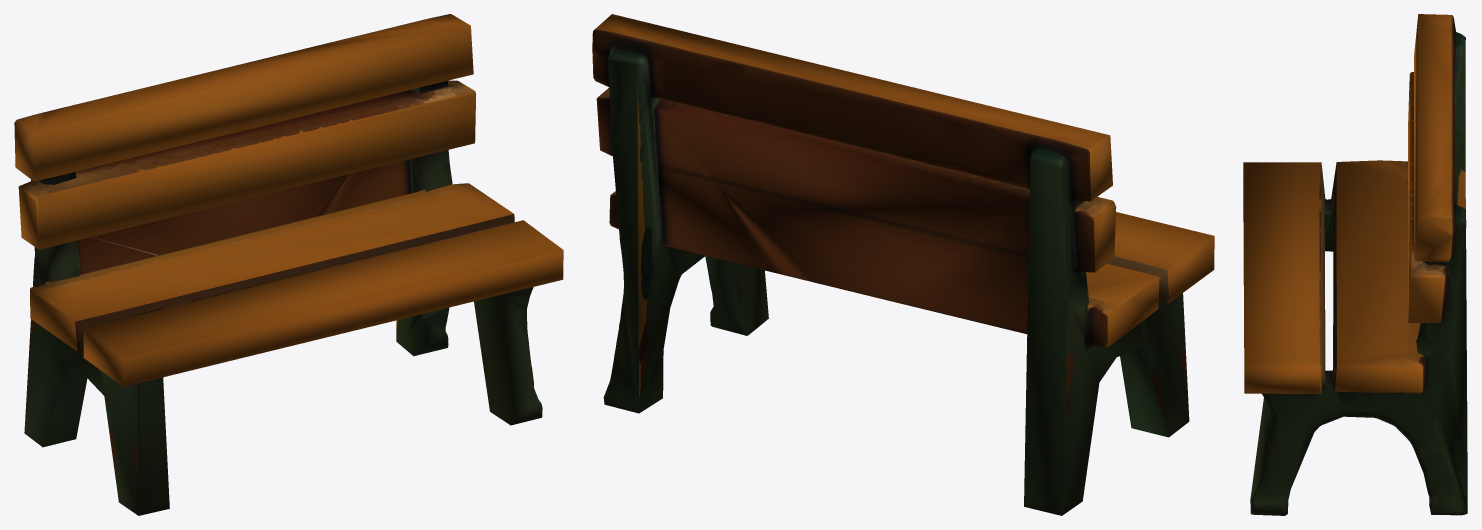
File: lavka.fbx
The picture shows the model from 3 angles, left to right: view 1: azimuth 30°, elevation 25°; view 2: azimuth 150°, elevation 25°; view 3: azimuth 270°, elevation 25°; orthographic projection. The views are drawn at different scales.
Parts seen in each view (by area): view 1: tmpp271h0p9.ply; view 2: tmpp271h0p9.ply; view 3: tmpp271h0p9.ply.
Boxes of the visible parts, x1,y1,x2,y2 form: tmpp271h0p9.ply: (14, 14, 563, 515); tmpp271h0p9.ply: (592, 14, 1214, 515); tmpp271h0p9.ply: (1243, 14, 1467, 515).
Bounding box in the file's own units: 198 × 139 × 91.74.
1 material, 1 textured.
